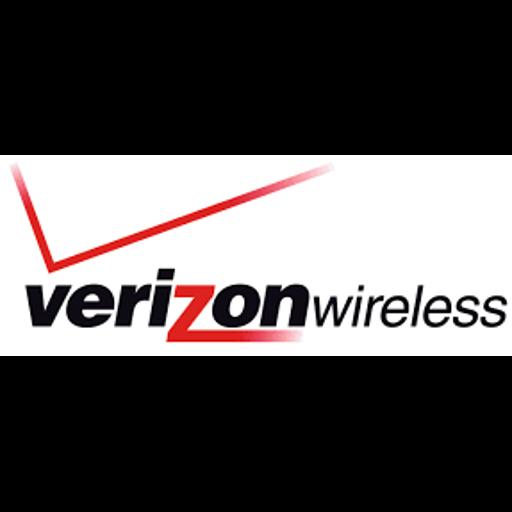Verizon Wireless: (0, 155, 512, 356)
